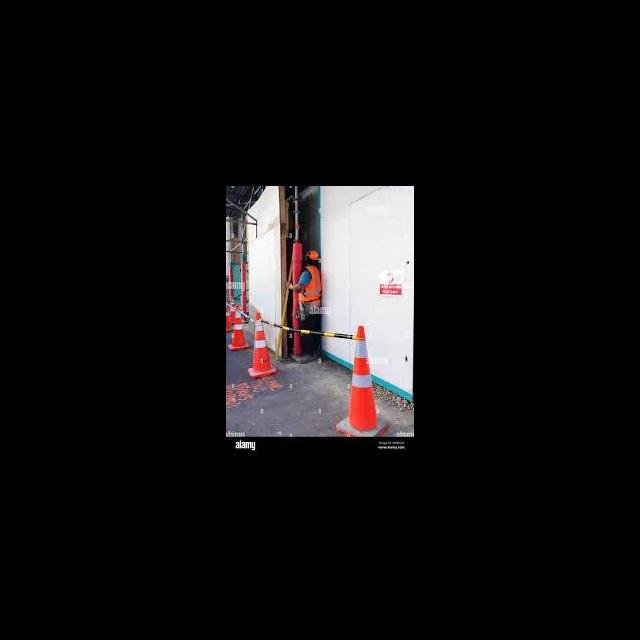NO-Hardhat: (306, 250, 320, 258)
NO-Safety Vest: (299, 266, 323, 303)
Person: (283, 249, 324, 362)
Safety Cone: (336, 324, 390, 438), (247, 312, 275, 377), (228, 306, 254, 351), (226, 306, 233, 333)
